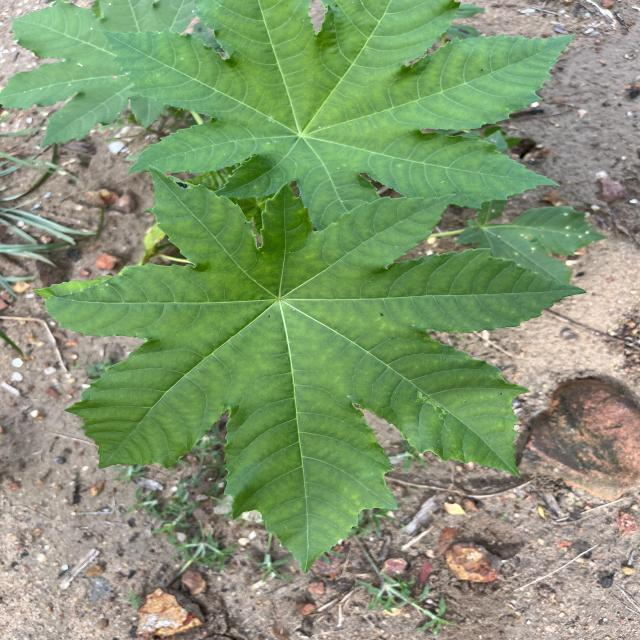Ricinus communis linn: (29, 156, 592, 583), (94, 0, 582, 234)
